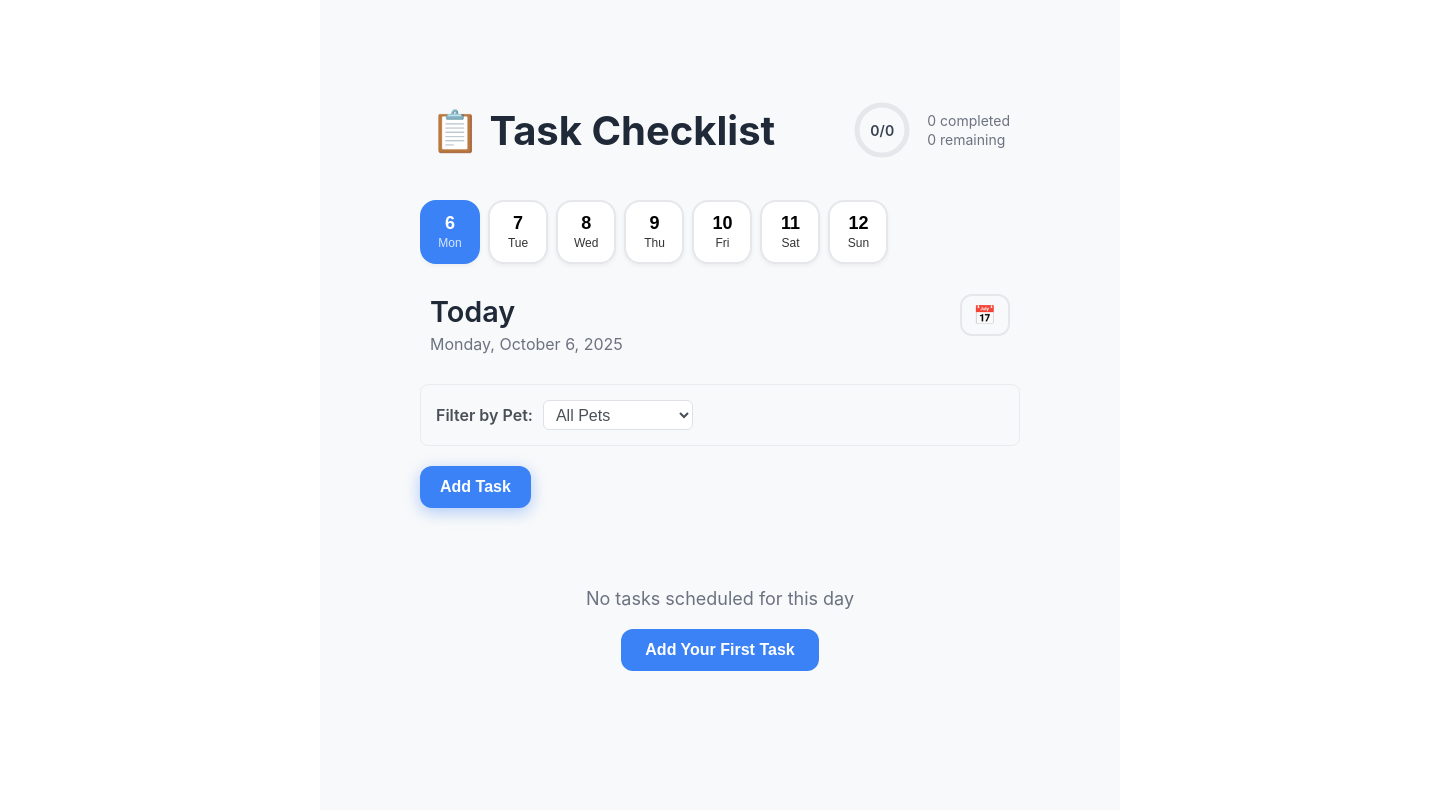
TaskChecklist › addNewTask shows error if title or petId is missing
// Open the modal
Step 1. Click the button "Add Task" → (475, 487), box [420, 466, 531, 508]
(page scrolled)
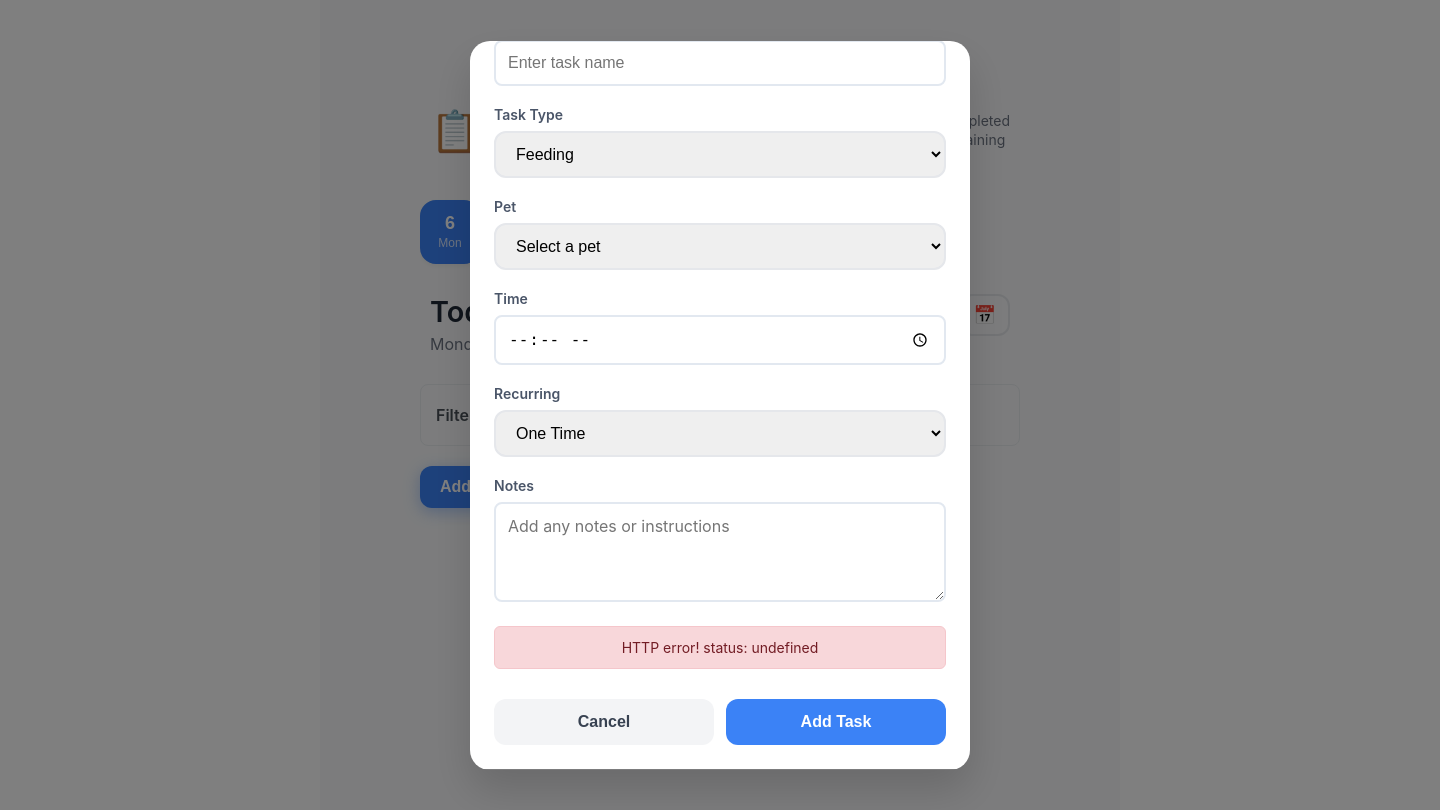
// Try submitting with no task name or pet selected
Step 2. Click the button "Add Task" below "Notes" → (836, 722), box [726, 699, 946, 745]
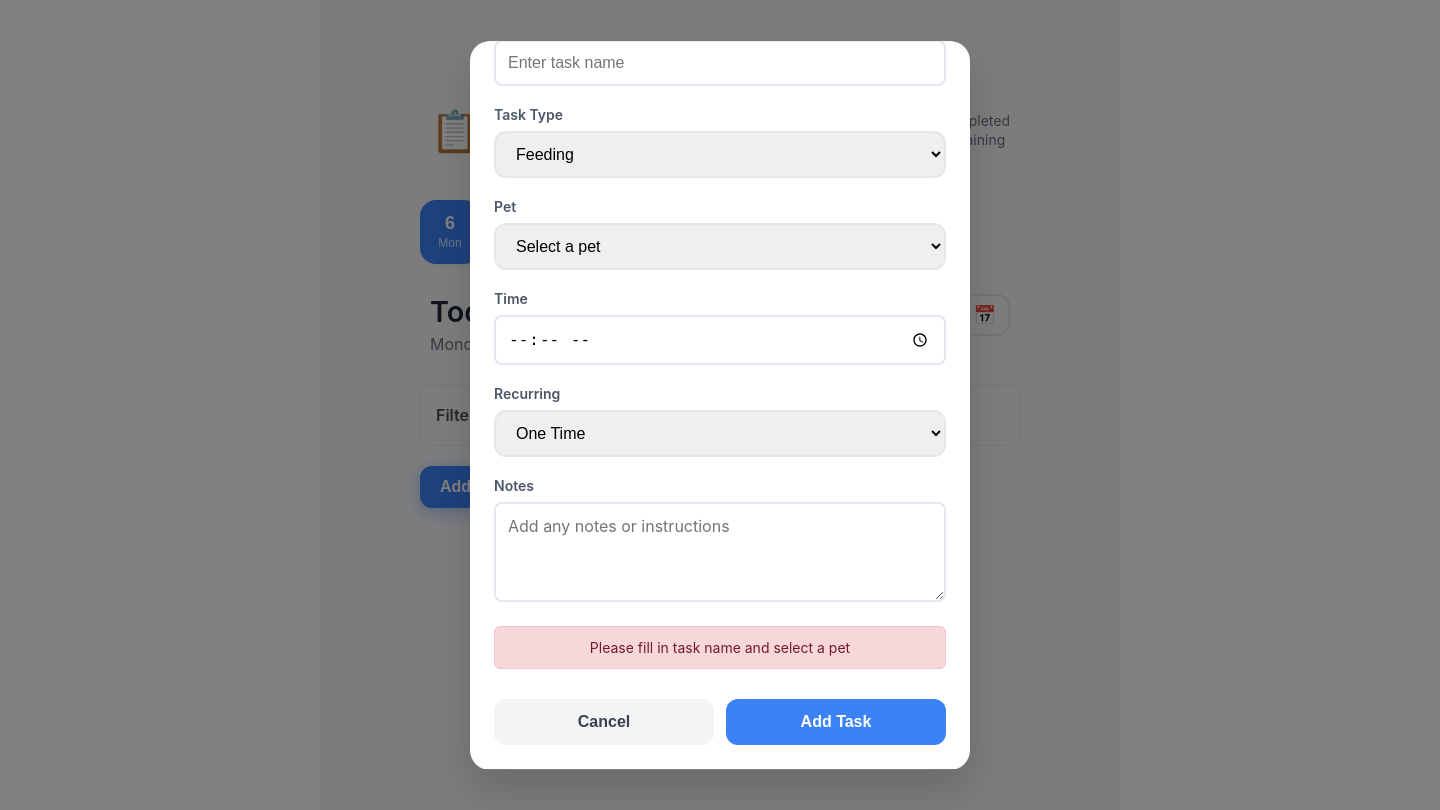
Expected: the text "Please fill in task name and select a pet" is shown, [494, 626, 946, 669]
